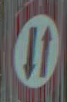Two way: (11, 4, 60, 96)
